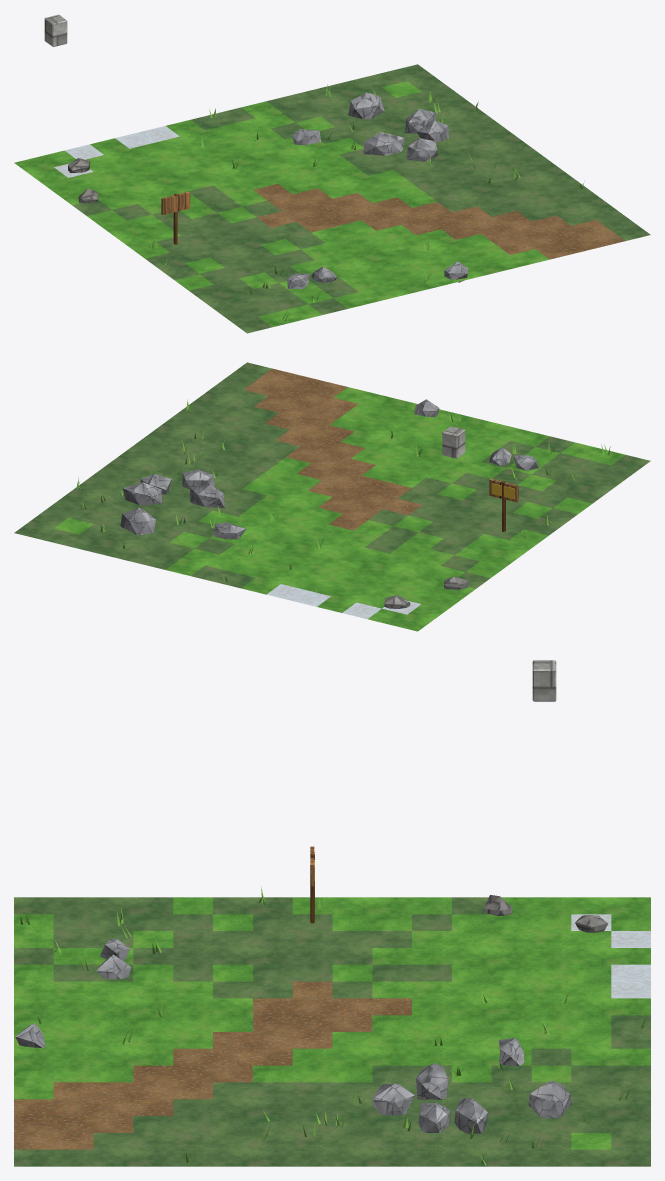
The model's file is chunk_7_2.glb.
3 views of the same model, one above another, from view 1: azimuth 30°, elevation 25°; view 2: azimuth 150°, elevation 25°; view 3: azimuth 270°, elevation 25° (orthographic). The views are drawn at different scales.
Parts seen in each view (by area): view 1: chunk_7_2; view 2: chunk_7_2; view 3: chunk_7_2.
Boxes of the visible parts, left/top/right/bottom form: chunk_7_2: left=14, top=14, right=650, bottom=333; chunk_7_2: left=14, top=362, right=650, bottom=631; chunk_7_2: left=14, top=660, right=650, bottom=1166.
Bounding box in the file's own units: 16.18 × 6.97 × 16.
11 materials, 9 textured.
